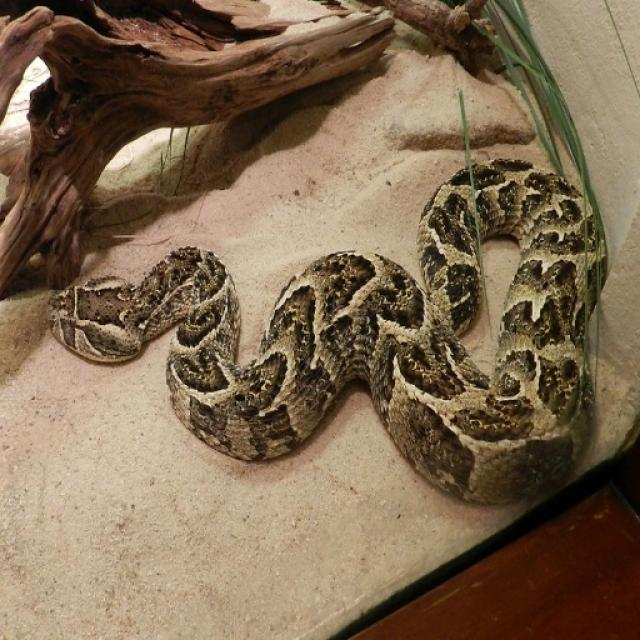snake: (32, 143, 619, 495)
